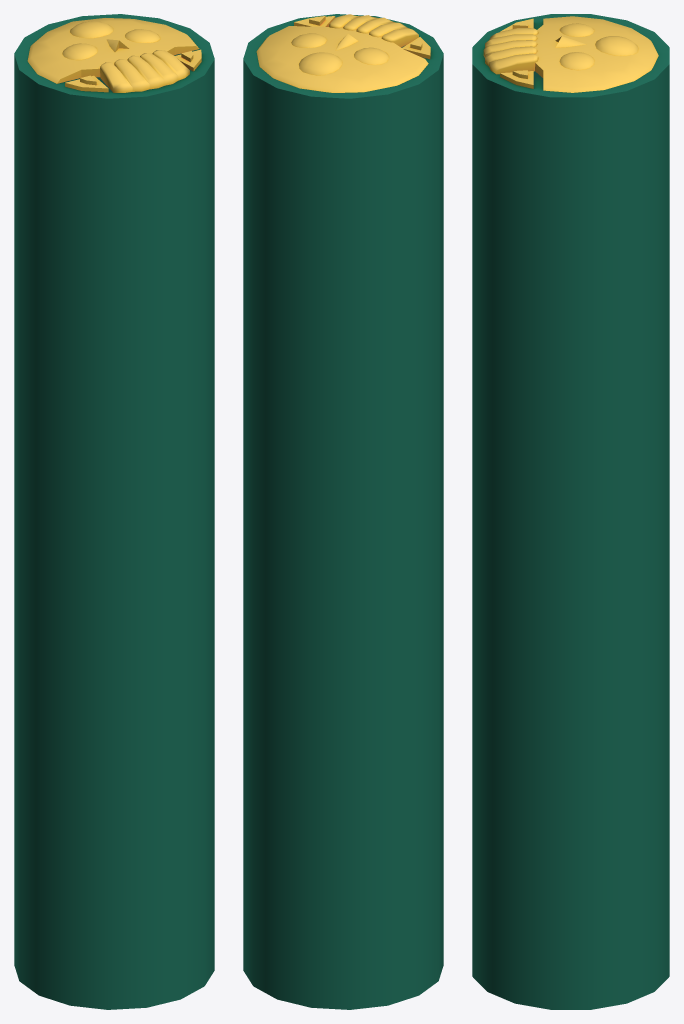
The model's file is goldDecoration02.fbx.
3 renders of one model, left to right at view 1: azimuth 30°, elevation 25°; view 2: azimuth 150°, elevation 25°; view 3: azimuth 270°, elevation 25°, orthographic.
Visible parts, largest first — view 1: elevator02_geo, elevator02Mask_geo; view 2: elevator02_geo, elevator02Mask_geo; view 3: elevator02_geo, elevator02Mask_geo.
Boxes of the visible parts, x1,y1,x2,y2 form: elevator02_geo: (14, 14, 214, 1009); elevator02Mask_geo: (27, 18, 201, 92); elevator02_geo: (243, 14, 443, 1009); elevator02Mask_geo: (256, 14, 430, 92); elevator02_geo: (472, 14, 669, 1009); elevator02Mask_geo: (483, 16, 658, 92).
Bounding box in the file's own units: 196 × 1021 × 196.
2 materials, 2 textured.
